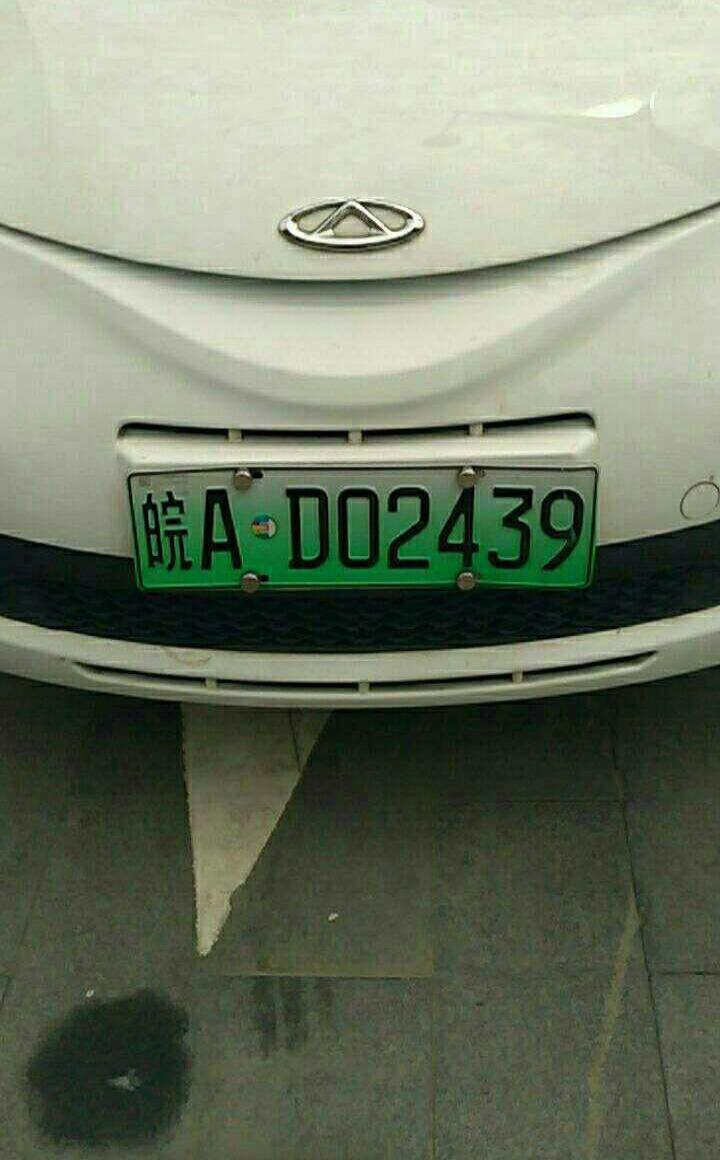car_id: (131, 470, 602, 586)
